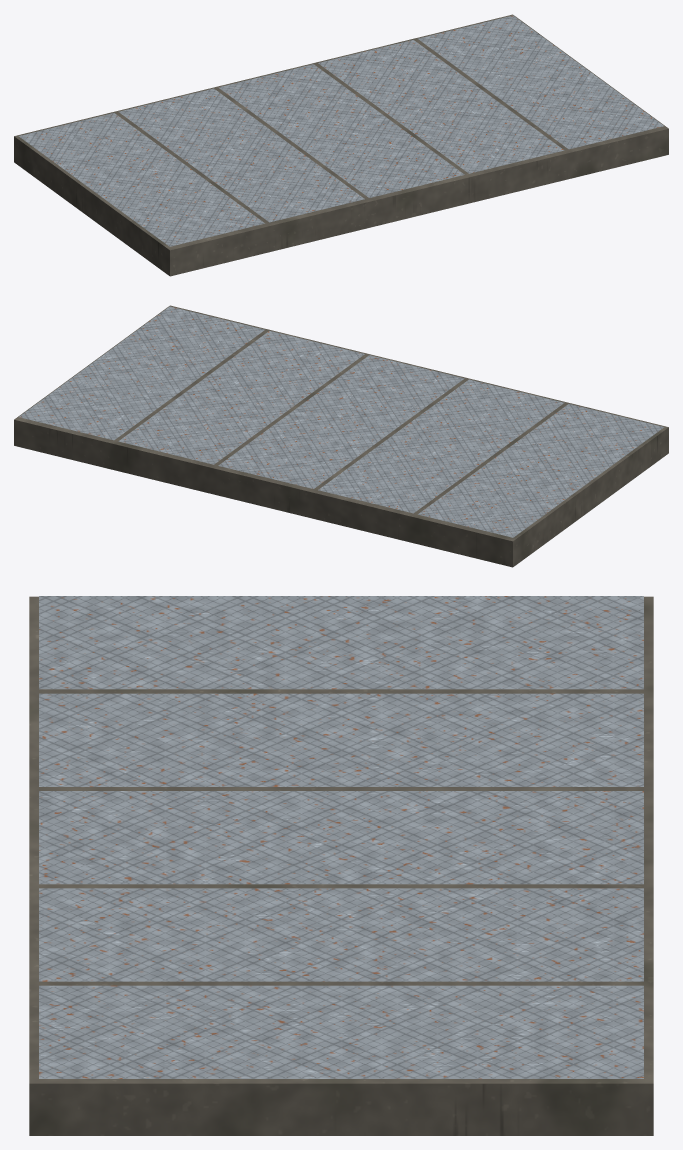
Rendered from bunker_deck.glb.
3 renders of one model, top to bottom at view 1: azimuth 30°, elevation 25°; view 2: azimuth 150°, elevation 25°; view 3: azimuth 270°, elevation 25°, orthographic. The views are drawn at different scales.
Visible parts, largest first — view 1: BunkerDeck; view 2: BunkerDeck; view 3: BunkerDeck.
Part boxes in pixels (x1,y1,x2,y2): BunkerDeck: [14, 14, 668, 276]; BunkerDeck: [14, 305, 668, 567]; BunkerDeck: [29, 596, 653, 1135].
Bounding box in the file's own units: 12 × 0.63 × 6.5.
Materials: 1 (1 with a texture image).
